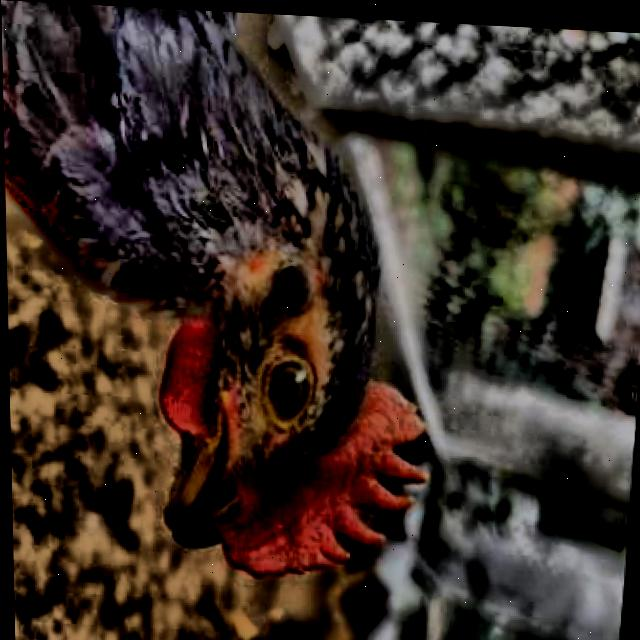Healthy: (258, 332, 318, 442)
